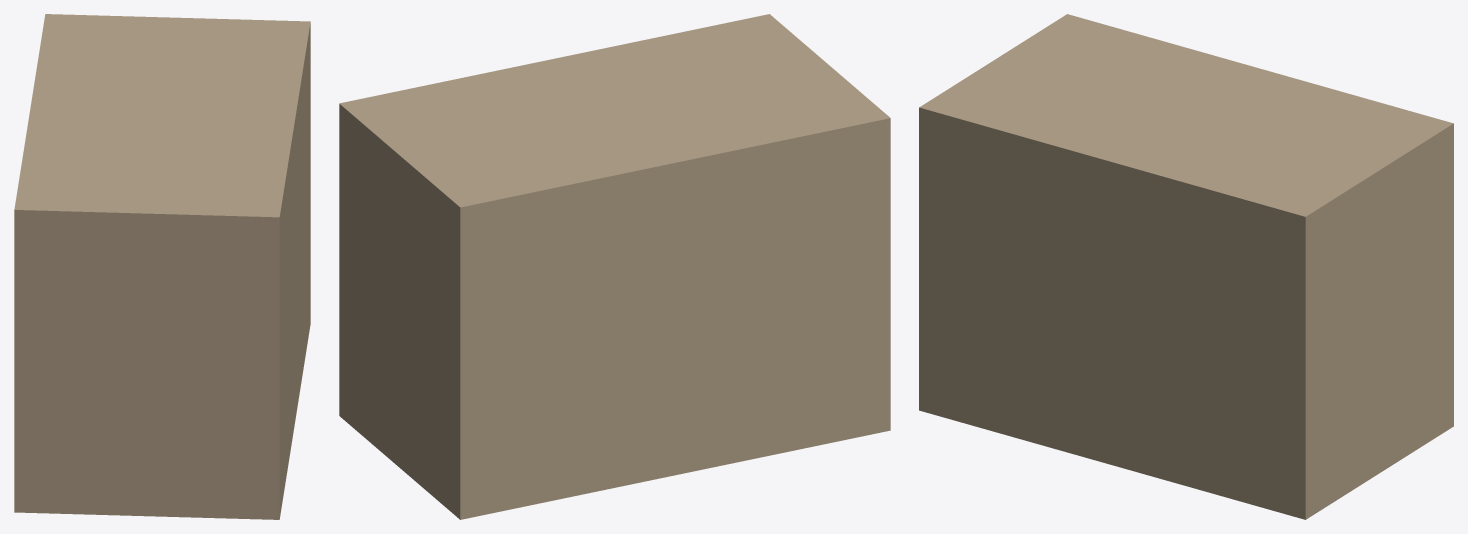
Rendered from bld_100469768.dae.
3 renders of one model, left to right at view 1: azimuth 30°, elevation 25°; view 2: azimuth 150°, elevation 25°; view 3: azimuth 270°, elevation 25°, orthographic. The views are drawn at different scales.
Visible parts, largest first — view 1: bld_100469768; view 2: bld_100469768; view 3: bld_100469768.
Boxes of the visible parts, x1,y1,x2,y2 form: bld_100469768: (14, 14, 310, 519); bld_100469768: (339, 14, 890, 519); bld_100469768: (919, 14, 1453, 519).
Size of the model in its own units: 11.49 by 12.79 by 8.
